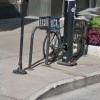Bicycle: (42, 24, 88, 67)
